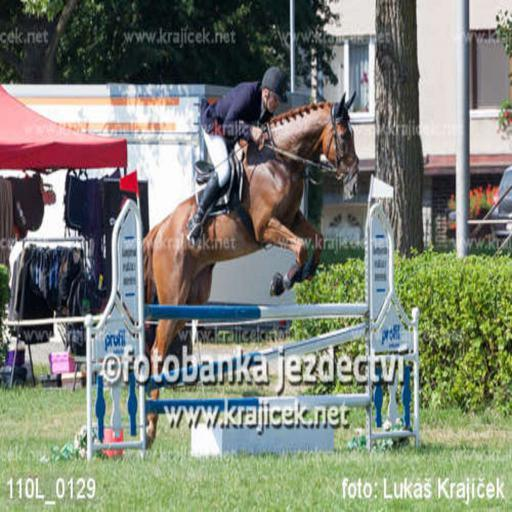Horse: (142, 89, 364, 451)
